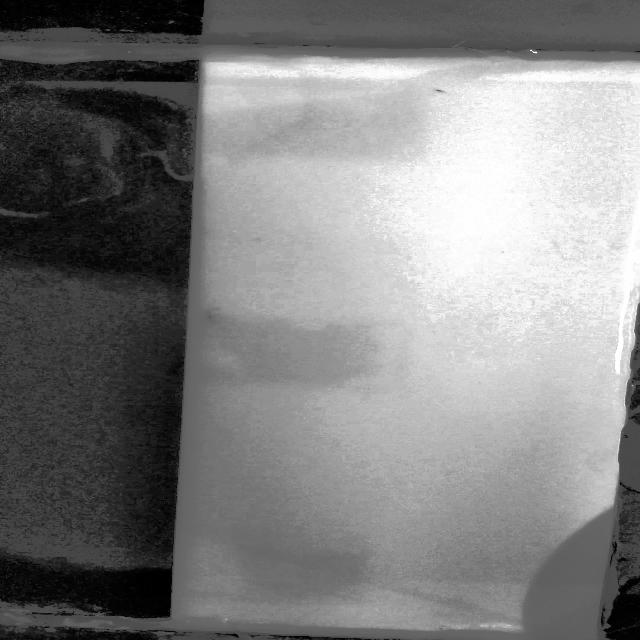shrimp: (200, 305, 221, 323)
